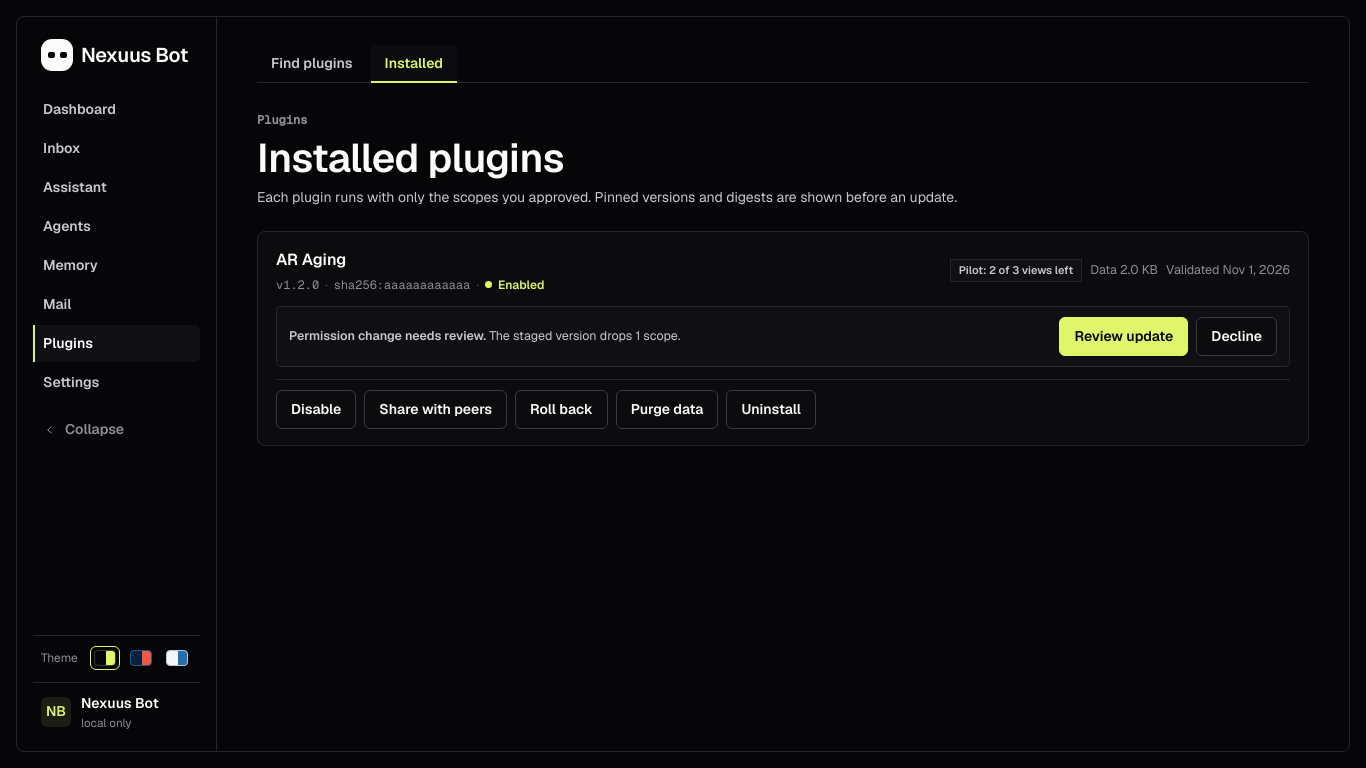
it: installed plugins › reads a held permission drop as a drop, not a widening
expect the text "The staged version drops 1 scope." is shown: met, box [489, 327, 680, 344]
Click the button "Review update": click(1124, 336) [1060, 317, 1188, 356]
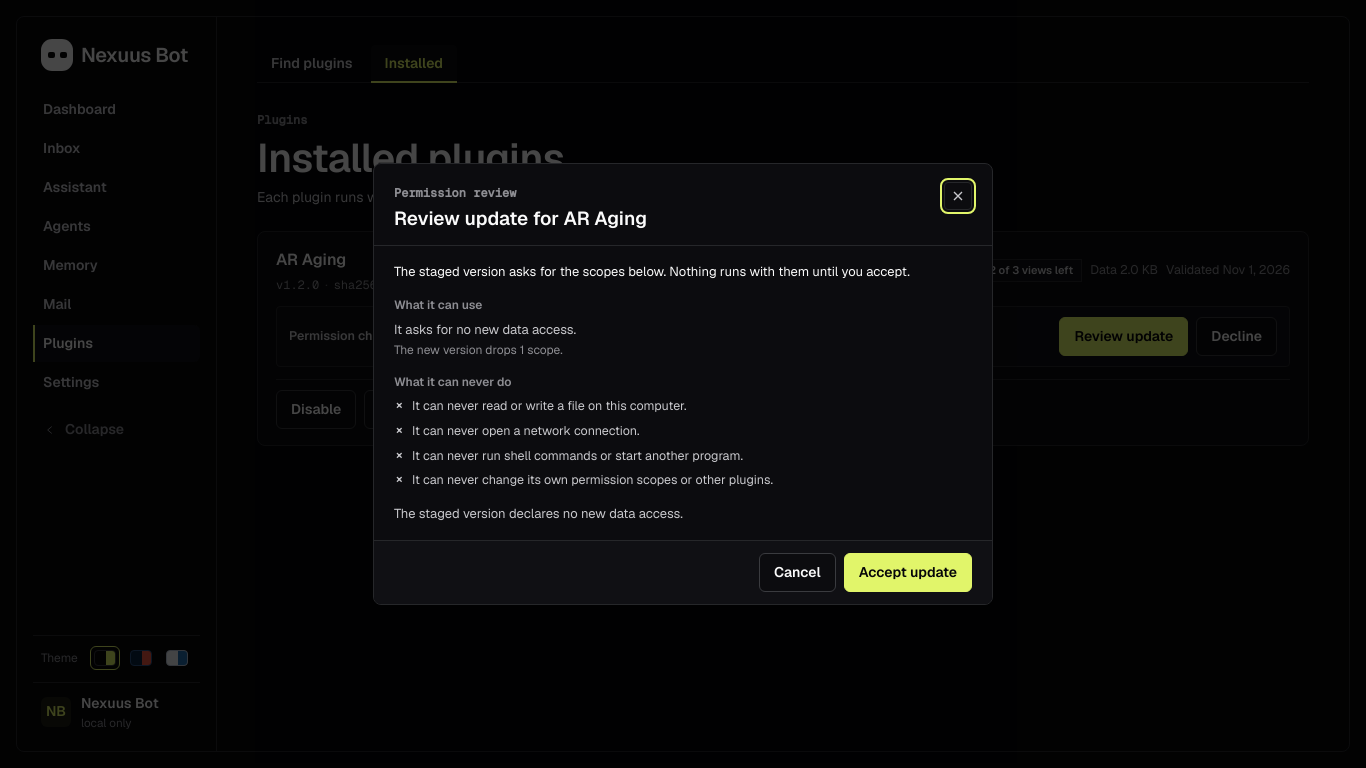
expect the text "It asks for no new data access." is shown: met, box [394, 321, 576, 338]
expect the text "The new version drops 1 scope." is shown: met, box [394, 342, 563, 358]
